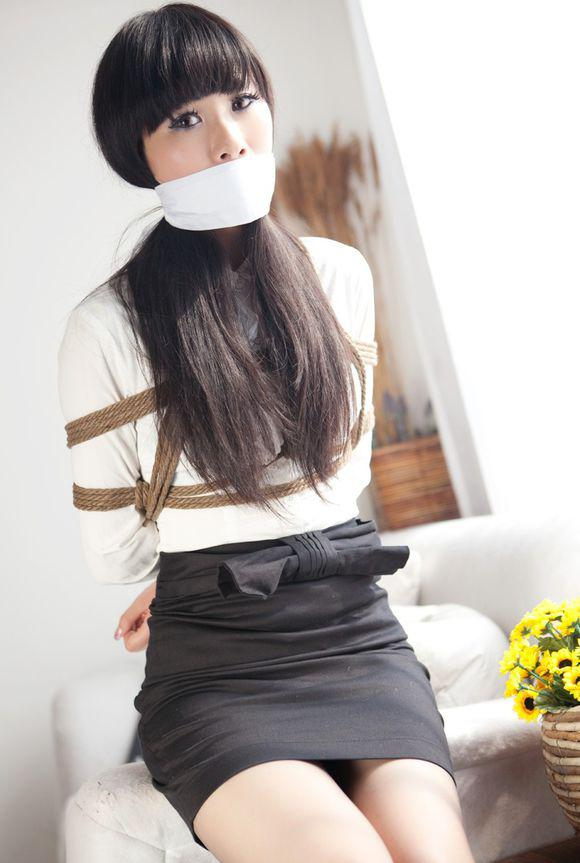WRONG: (140, 78, 279, 217)
